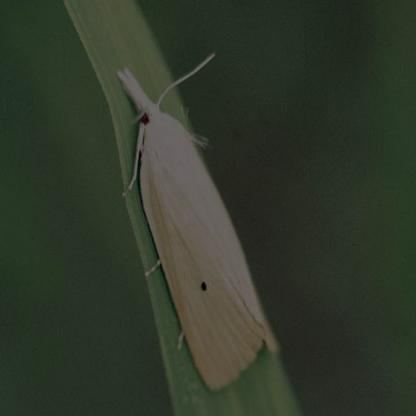stem-borer: (113, 58, 286, 395)
